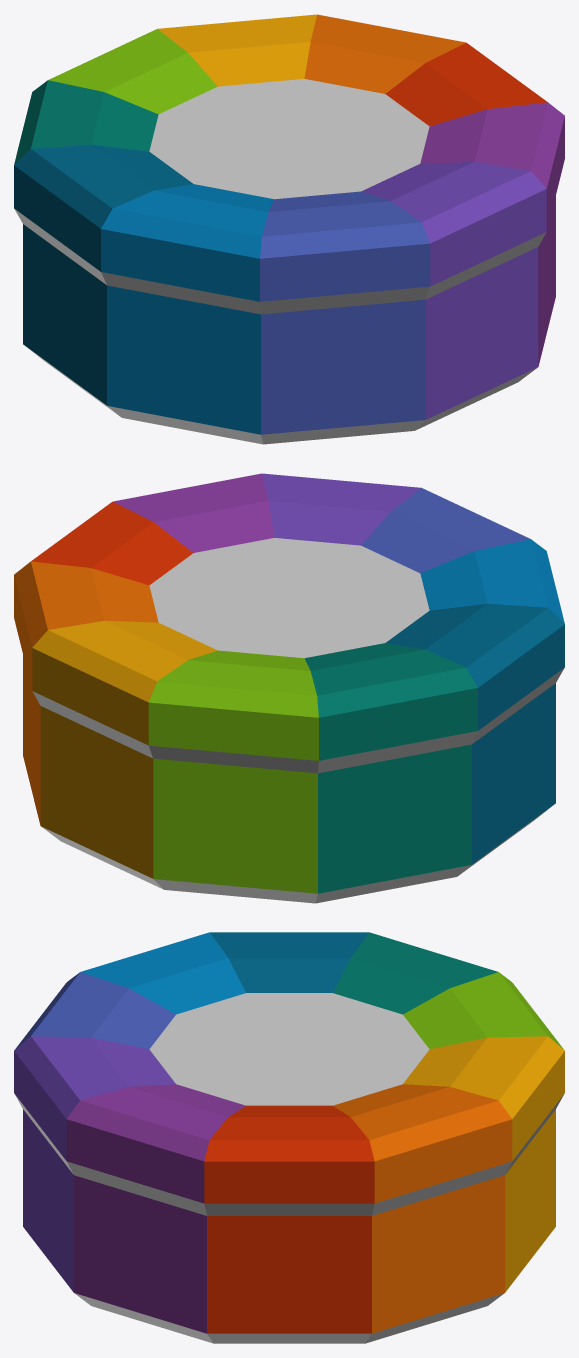
The model's file is Rainbow Dye.fbx.
3 views of the same model, one above another, from view 1: azimuth 30°, elevation 25°; view 2: azimuth 150°, elevation 25°; view 3: azimuth 270°, elevation 25° (orthographic). The views are drawn at different scales.
Visible parts, largest first — view 1: Cylinder; view 2: Cylinder; view 3: Cylinder.
Boxes of the visible parts, x1,y1,x2,y2 form: Cylinder: (14,14,564,444); Cylinder: (14,473,564,903); Cylinder: (14,932,564,1343).
Bounding box in the file's own units: 197 × 86.49 × 207.
